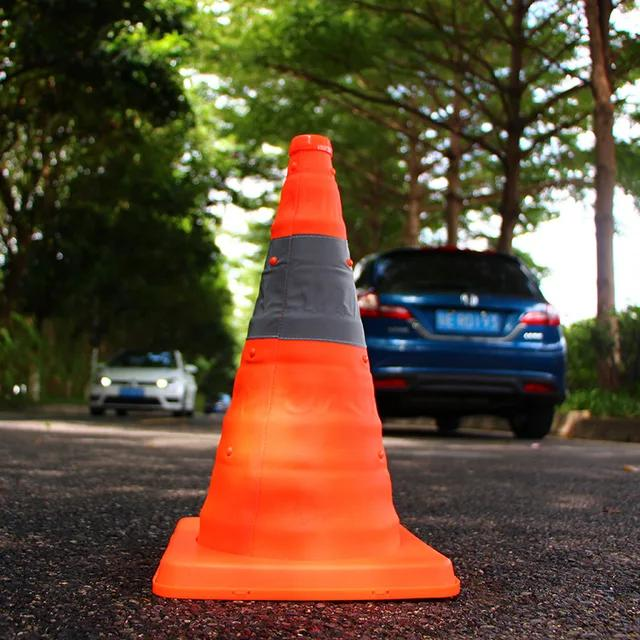Traffic Cone: (120, 38, 488, 626)
